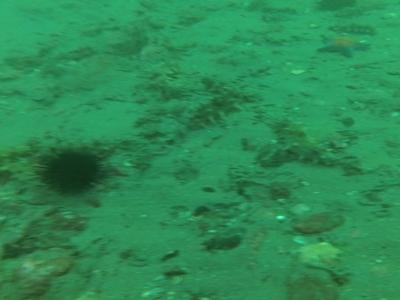holothurian: (261, 138, 336, 173), (178, 94, 238, 127)
urchin: (35, 144, 110, 198)
